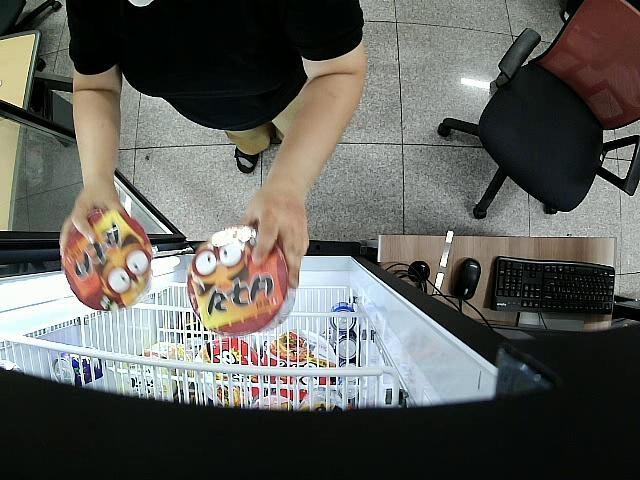05_nuguri_L: (188, 226, 296, 339), (62, 211, 153, 313)
